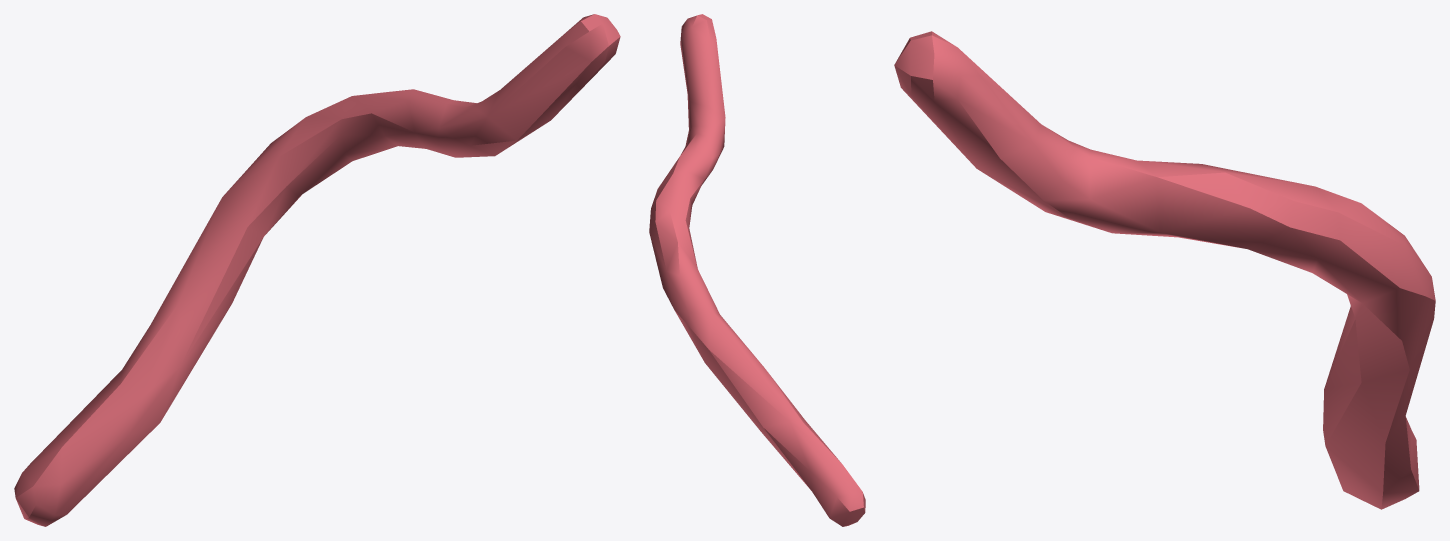
Rendered from fma3837_fj2715.glb.
3 views of the same model, side by side, from view 1: azimuth 30°, elevation 25°; view 2: azimuth 150°, elevation 25°; view 3: azimuth 270°, elevation 25° (orthographic). The views are drawn at different scales.
Parts seen in each view (by area): view 1: FMA3837_FJ2715; view 2: FMA3837_FJ2715; view 3: FMA3837_FJ2715.
Boxes of the visible parts, x1,y1,x2,y2 form: FMA3837_FJ2715: (14,14,620,526); FMA3837_FJ2715: (649,14,865,526); FMA3837_FJ2715: (894,31,1435,509).
Size of the model in its own units: 0.00603 by 0.00711 by 0.0048.
